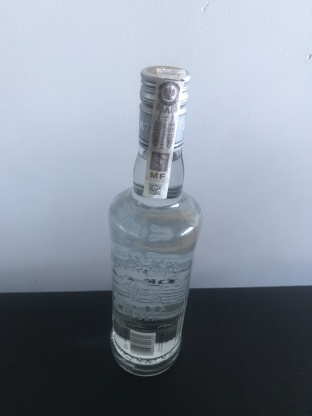nakretka: (136, 62, 192, 156)
